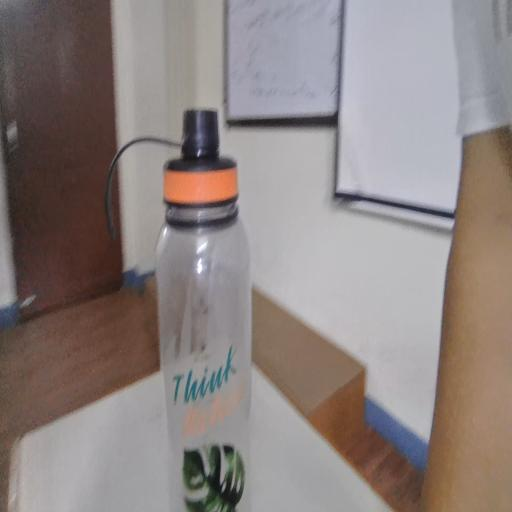Bottle: (121, 113, 308, 512)
